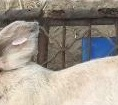text: (6, 29, 32, 52)
